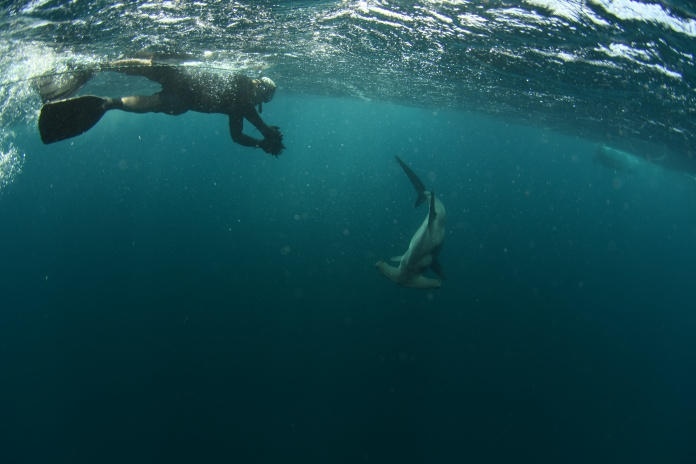Hammer: (354, 129, 460, 313)
